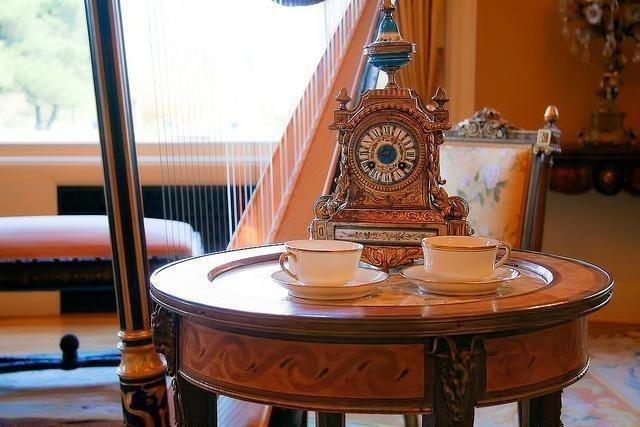cup-handle: (278, 238, 364, 287), (422, 236, 511, 281)
